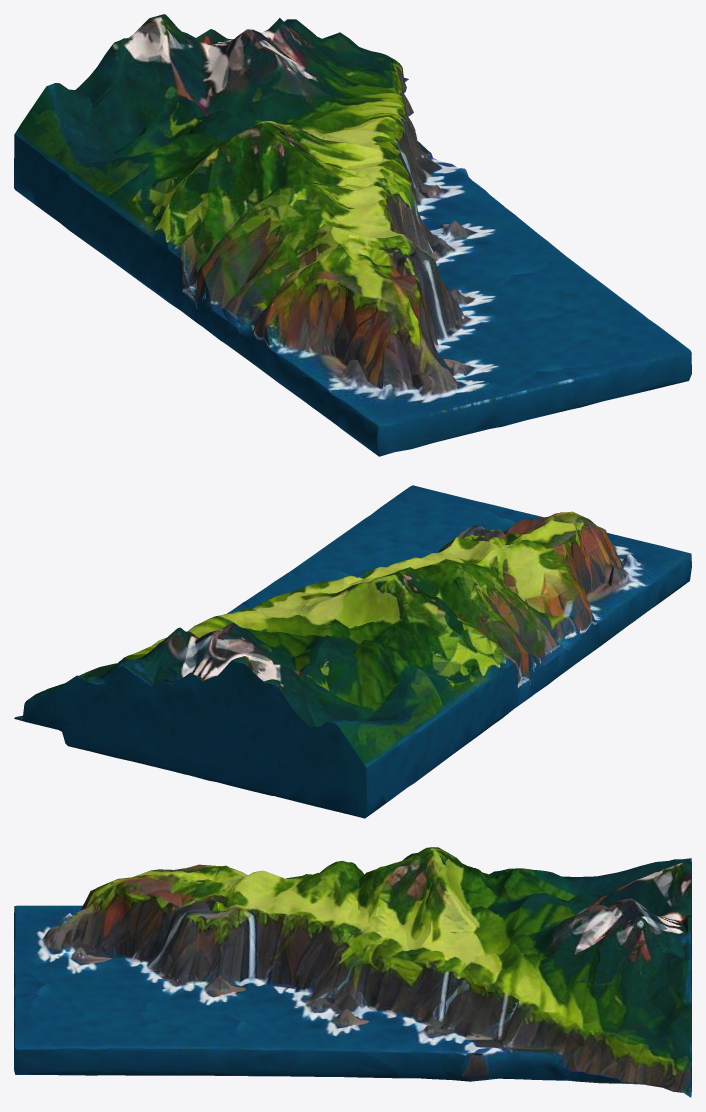
File: shiretoko.glb
The picture shows the model from 3 angles, top to bottom: view 1: azimuth 30°, elevation 25°; view 2: azimuth 150°, elevation 25°; view 3: azimuth 270°, elevation 25°; orthographic projection. The views are drawn at different scales.
Visible parts, largest first — view 1: logan-textured.obj; view 2: logan-textured.obj; view 3: logan-textured.obj.
Boxes of the visible parts, x1,y1,x2,y2 form: logan-textured.obj: [14, 14, 691, 456]; logan-textured.obj: [14, 485, 691, 818]; logan-textured.obj: [14, 847, 691, 1097].
Bounding box in the file's own units: 0.6258 × 0.2195 × 1.
1 material, 1 textured.
